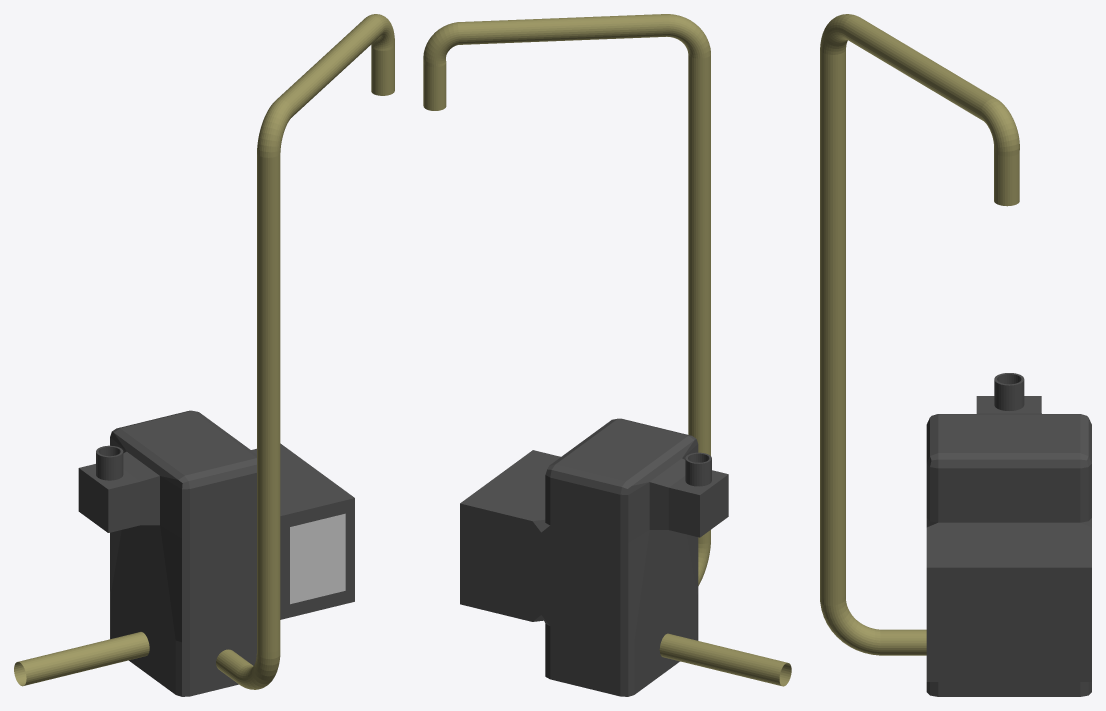
The picture shows the model from 3 angles, left to right: view 1: azimuth 30°, elevation 25°; view 2: azimuth 150°, elevation 25°; view 3: azimuth 270°, elevation 25°; orthographic projection. The views are drawn at different scales.
Visible parts, largest first — view 1: IP; view 2: IP; view 3: IP.
Part boxes in pixels (x1,y1,x2,y2): IP: [14, 14, 394, 696]; IP: [423, 14, 791, 696]; IP: [820, 14, 1091, 696].
Size of the model in its own units: 0.373 by 0.5817 by 0.2145.
